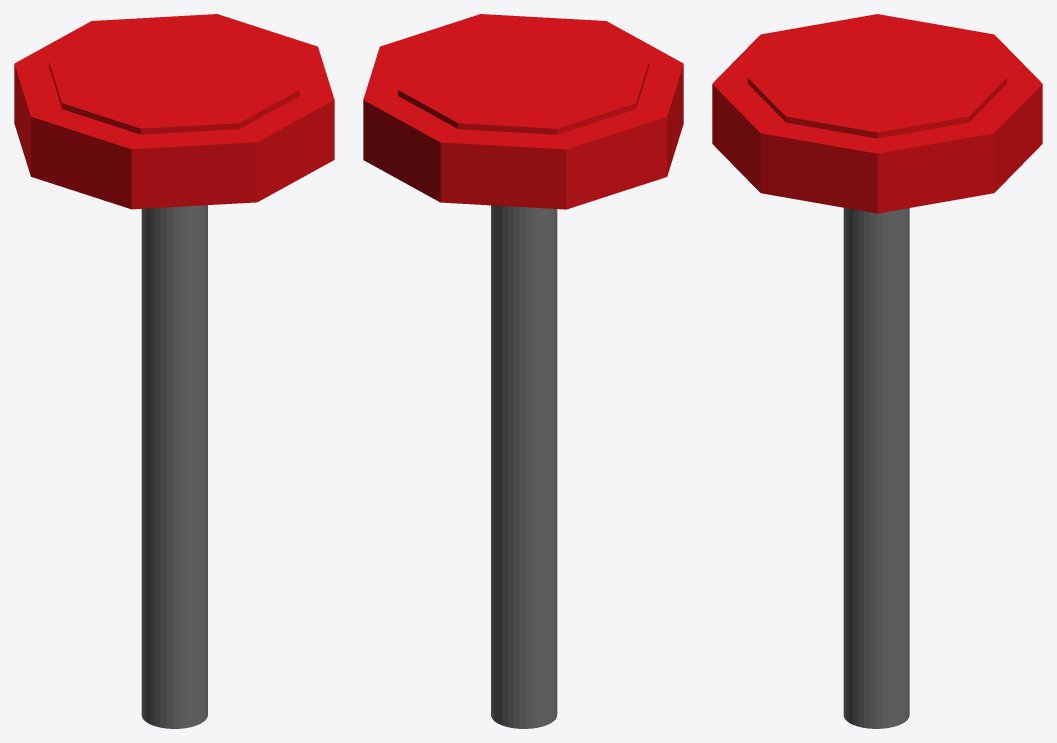
The model's file is StopSign.fbx.
The picture shows the model from 3 angles, left to right: view 1: azimuth 30°, elevation 25°; view 2: azimuth 150°, elevation 25°; view 3: azimuth 270°, elevation 25°; orthographic projection.
Visible parts, largest first — view 1: Cylinder.001, Cylinder; view 2: Cylinder.001, Cylinder; view 3: Cylinder.001, Cylinder.
Boxes of the visible parts, x1,y1,x2,y2 form: Cylinder.001: (14, 14, 334, 209); Cylinder: (141, 205, 207, 728); Cylinder.001: (363, 14, 683, 209); Cylinder: (491, 205, 557, 728); Cylinder.001: (712, 14, 1042, 213); Cylinder: (843, 208, 909, 728).
Size of the model in its own units: 50 by 106 by 50.
